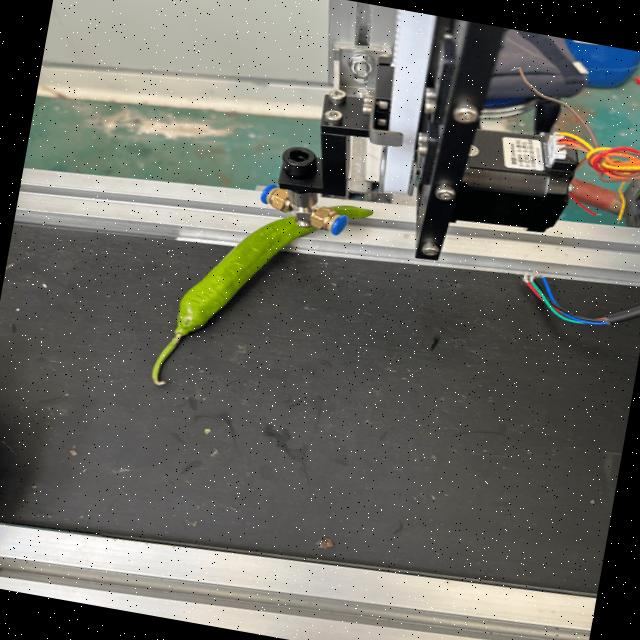chili: (174, 204, 374, 334)
